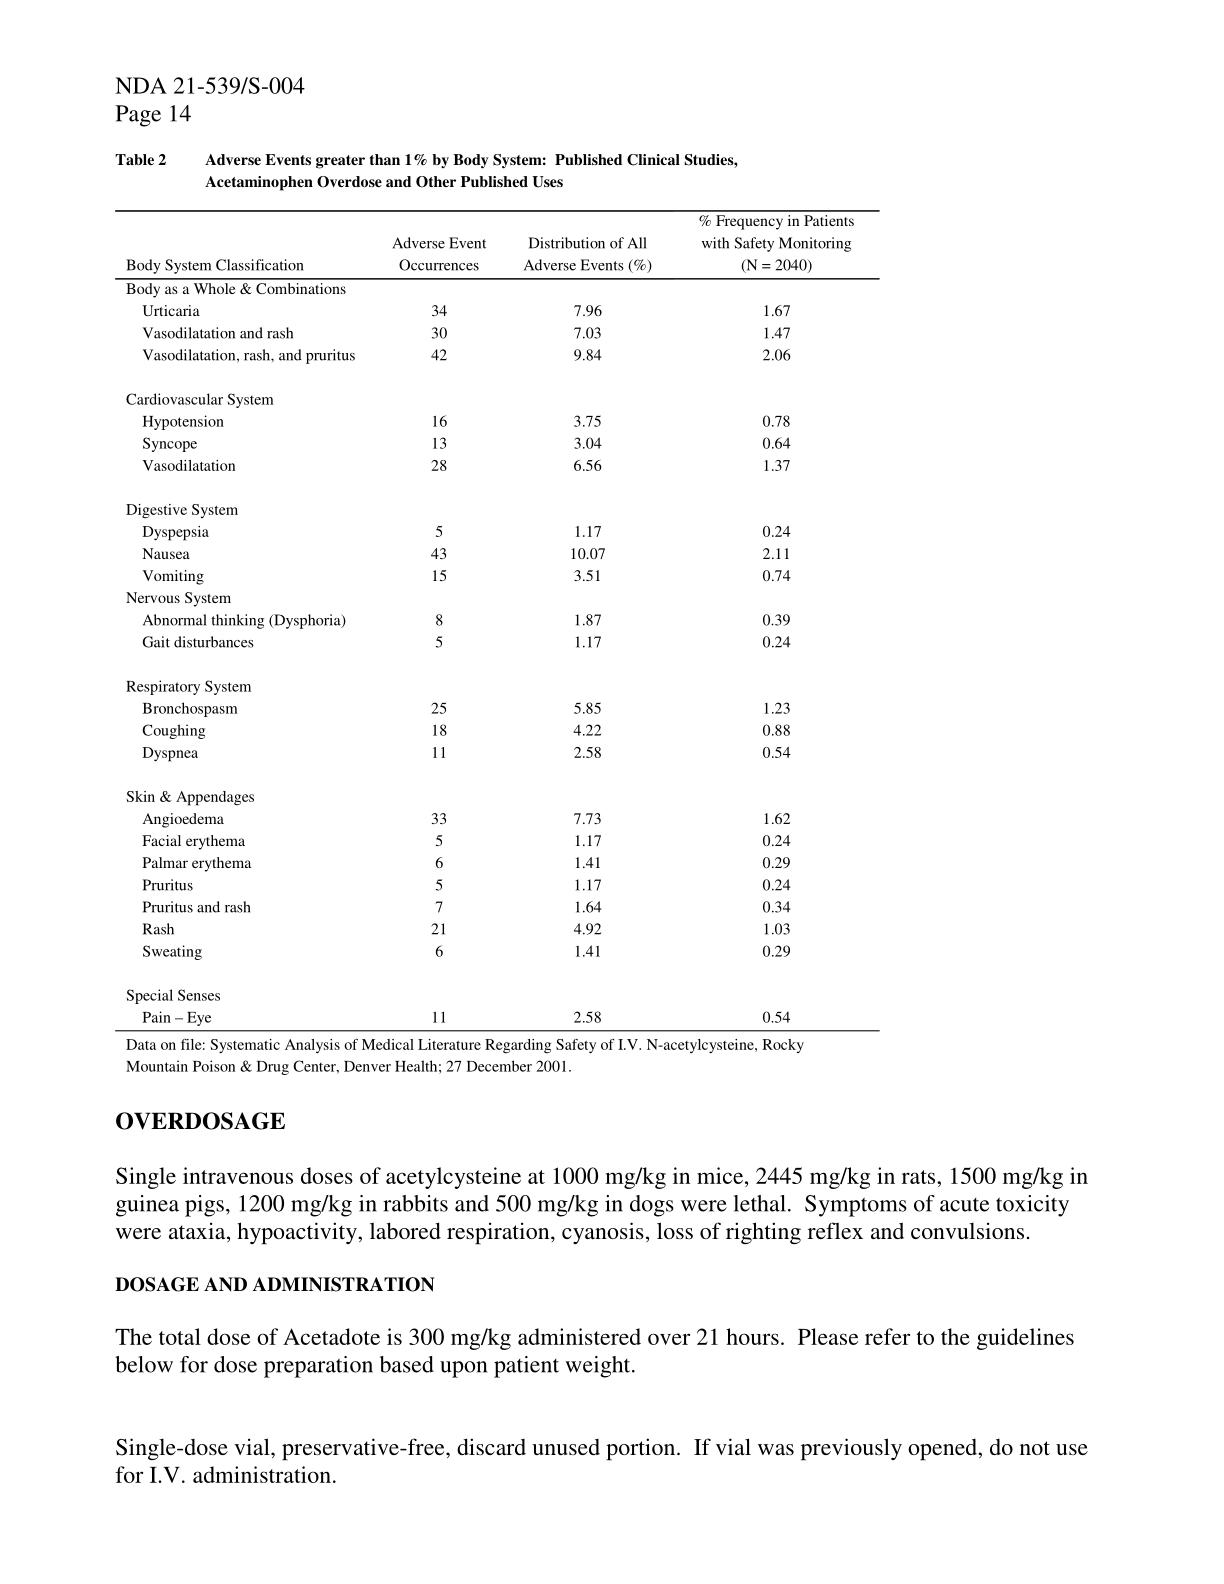partial_lined: (114, 208, 881, 1031)
